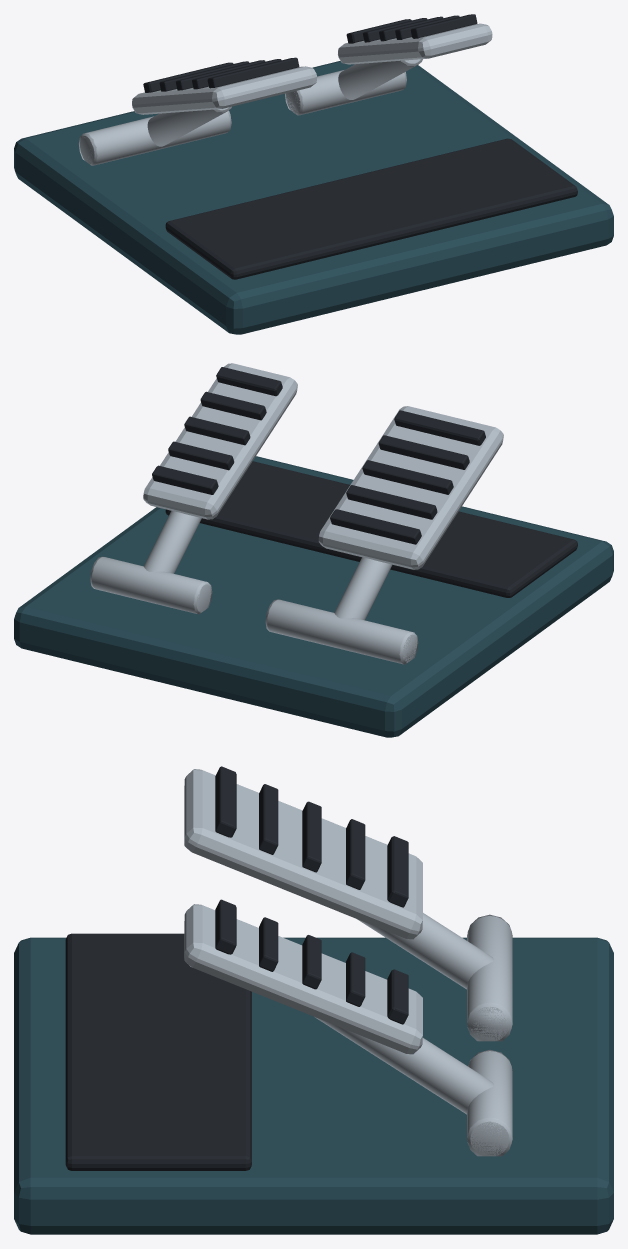
The model's file is pedals-dual.glb.
3 views of the same model, one above another, from view 1: azimuth 30°, elevation 25°; view 2: azimuth 150°, elevation 25°; view 3: azimuth 270°, elevation 25° (orthographic). The views are drawn at different scales.
Parts seen in each view (by area): view 1: foot_box, heel_rubber, brake_pad, accelerator_pad, brake_hinge, accelerator_hinge, accelerator_arm, brake_arm, brake_tread4, accelerator_tread4; view 2: foot_box, heel_rubber, brake_pad, accelerator_pad, brake_hinge, accelerator_hinge, brake_arm, accelerator_arm, brake_tread1, brake_tread3, brake_tread2, brake_tread0 (+6 smaller); view 3: foot_box, heel_rubber, brake_pad, accelerator_pad, accelerator_arm, brake_hinge, accelerator_hinge, brake_arm, brake_hinge.001, brake_tread2, brake_tread1, brake_tread3 (+8 smaller).
Boxes of the visible parts, x1,y1,x2,y2 form: foot_box: (14, 61, 613, 334); heel_rubber: (165, 138, 577, 279); brake_pad: (132, 66, 316, 114); accelerator_pad: (338, 23, 492, 64); brake_hinge: (80, 111, 230, 165); accelerator_hinge: (286, 70, 405, 115); accelerator_arm: (338, 59, 420, 99); brake_arm: (147, 107, 228, 146); brake_tread4: (208, 57, 299, 88); accelerator_tread4: (411, 14, 477, 38); foot_box: (14, 456, 613, 737); heel_rubber: (165, 461, 577, 597); brake_pad: (318, 406, 503, 569); accelerator_pad: (143, 363, 297, 519); brake_hinge: (267, 599, 417, 664); accelerator_hinge: (91, 557, 211, 613); brake_arm: (334, 557, 392, 620); accelerator_arm: (143, 511, 201, 573); brake_tread1: (346, 485, 437, 519); brake_tread3: (378, 435, 469, 469); brake_tread2: (362, 460, 453, 494); brake_tread0: (330, 510, 420, 544); foot_box: (14, 937, 613, 1234); heel_rubber: (65, 933, 251, 1170); brake_pad: (184, 769, 422, 939); accelerator_pad: (184, 904, 422, 1054); accelerator_arm: (315, 1017, 493, 1114); brake_hinge: (467, 916, 512, 1041); accelerator_hinge: (467, 1051, 512, 1156); brake_arm: (357, 913, 493, 989); brake_hinge.001: (467, 914, 512, 1041); brake_tread2: (302, 801, 321, 872); brake_tread1: (346, 819, 365, 889); brake_tread3: (259, 784, 278, 854).
Bounding box in the file's own units: 0.29 × 0.1383 × 0.29.
